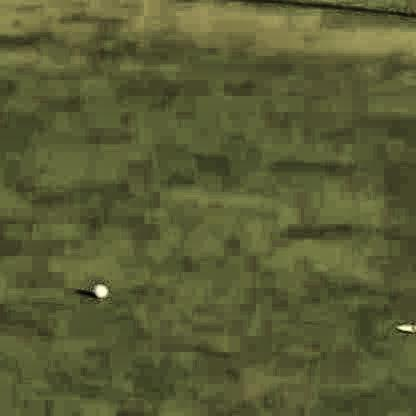golfball: (91, 282, 107, 295)
